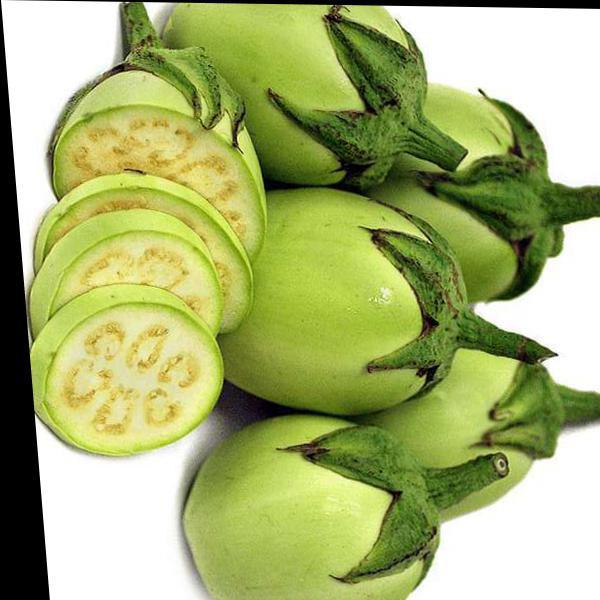eggplant: (53, 12, 577, 600)
